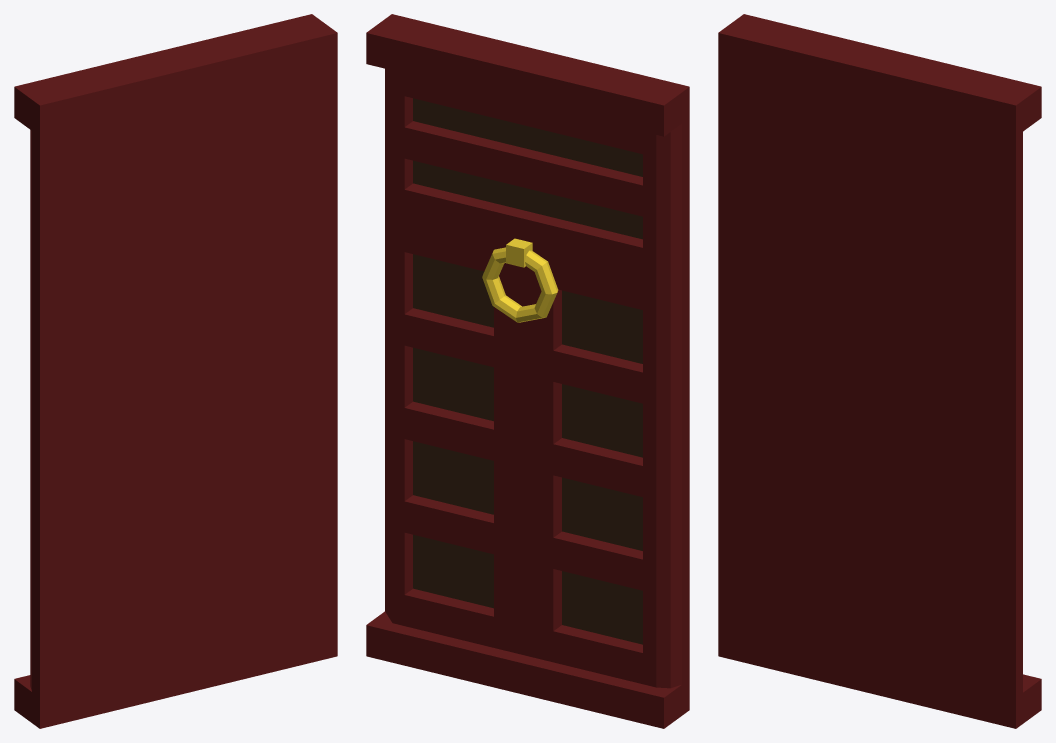
File: Heavy_Door.fbx
The picture shows the model from 3 angles, left to right: view 1: azimuth 30°, elevation 25°; view 2: azimuth 150°, elevation 25°; view 3: azimuth 330°, elevation 25°; orthographic projection.
Visible parts, largest first — view 1: Door; view 2: Door; view 3: Door.
Boxes of the visible parts, x1,y1,x2,y2 form: Door: (14, 14, 337, 728); Door: (366, 14, 689, 728); Door: (718, 14, 1041, 728).
Bounding box in the file's own units: 1 × 0.15 × 2.
